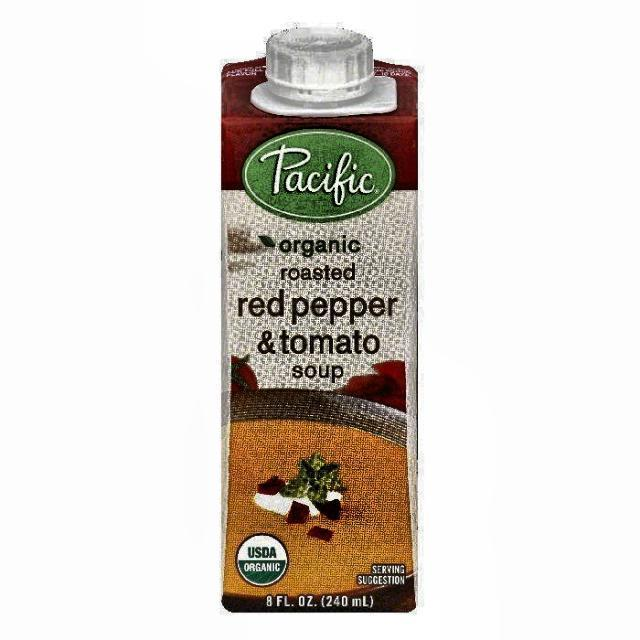cardboard: (219, 42, 419, 613)
